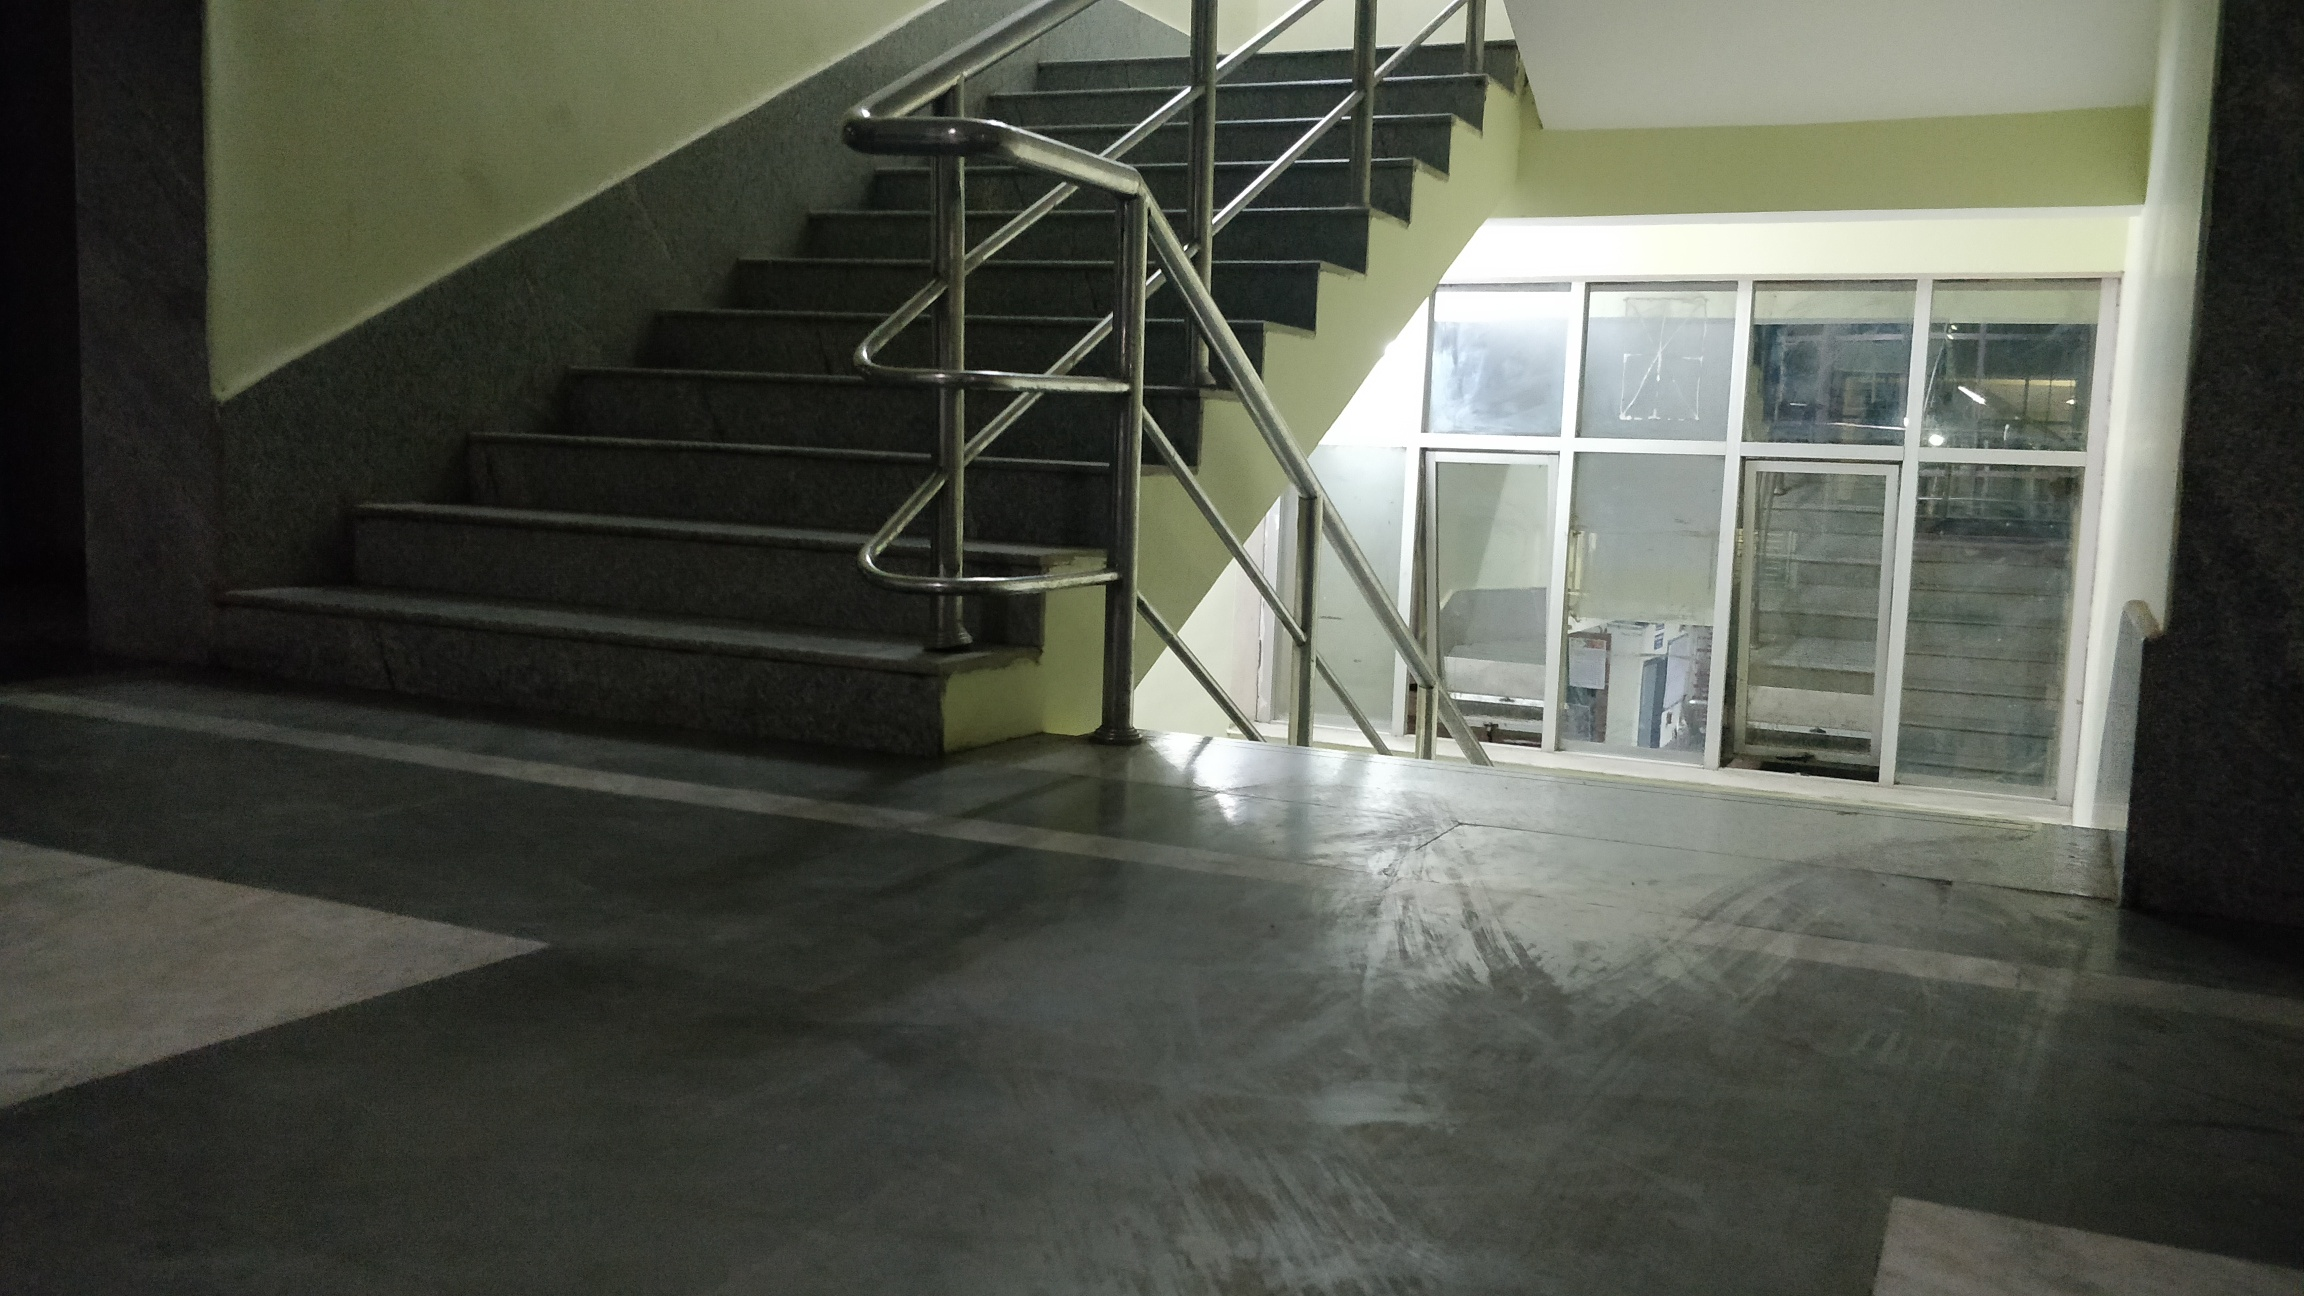stairs_up: (236, 35, 1508, 722)
